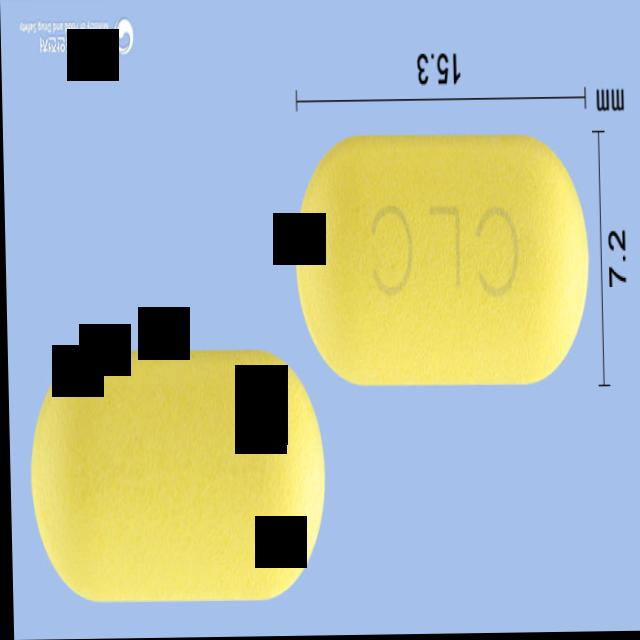Claric - 500mg: (21, 339, 327, 613), (288, 127, 593, 398)
